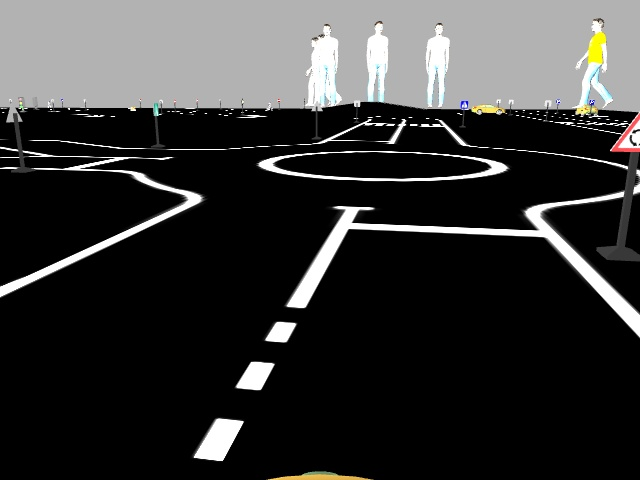Roundabout: (611, 97, 637, 156)
